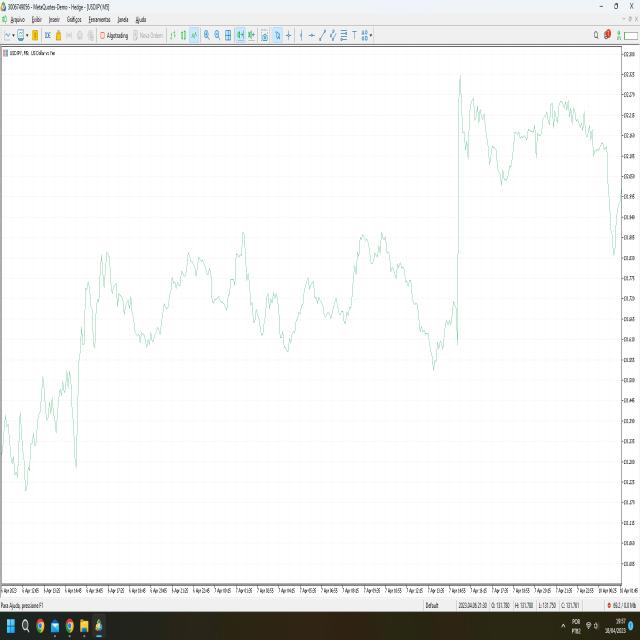bandeira_alta: (451, 76, 506, 280)
oco_inv: (241, 203, 349, 369)
